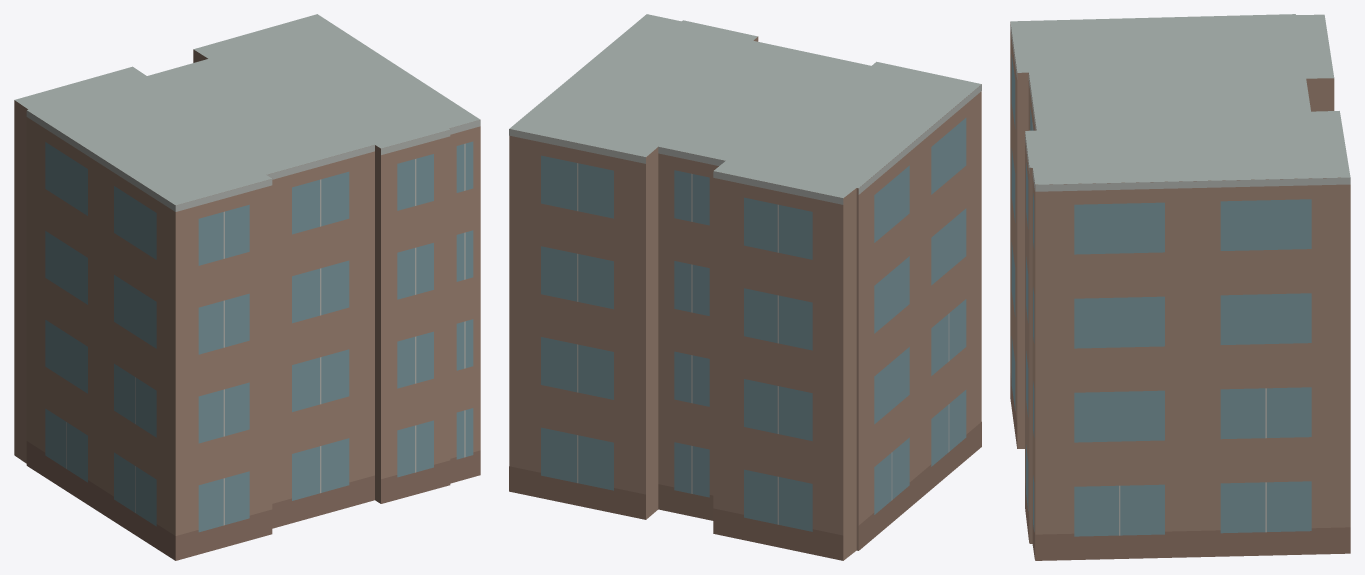
File: survey-upis-32972826.glb
3 renders of one model, left to right at view 1: azimuth 30°, elevation 25°; view 2: azimuth 150°, elevation 25°; view 3: azimuth 270°, elevation 25°, orthographic. The views are drawn at different scales.
Parts seen in each view (by area): view 1: survey-upis-32972826.tmp; view 2: survey-upis-32972826.tmp; view 3: survey-upis-32972826.tmp.
Boxes of the visible parts, bbox=[...] form: survey-upis-32972826.tmp: bbox=[14, 14, 480, 560]; survey-upis-32972826.tmp: bbox=[509, 14, 981, 560]; survey-upis-32972826.tmp: bbox=[1010, 14, 1350, 560].
Bounding box in the file's own units: 12.76 × 13.09 × 10.74.
